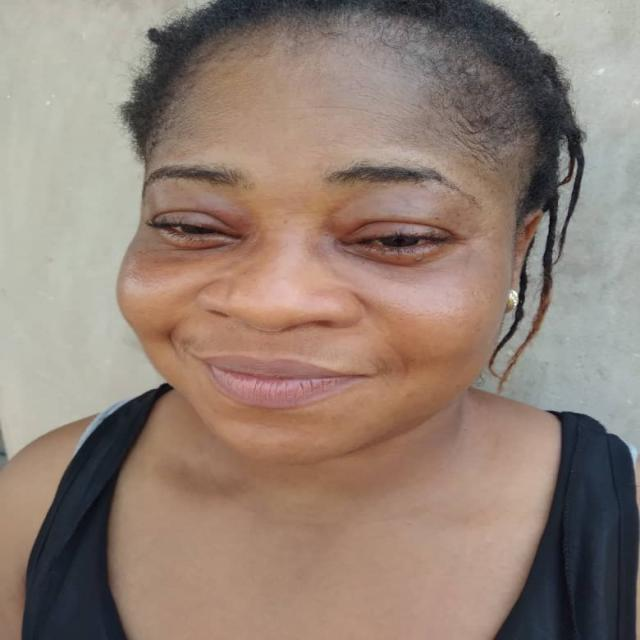happy: (113, 2, 539, 469)
